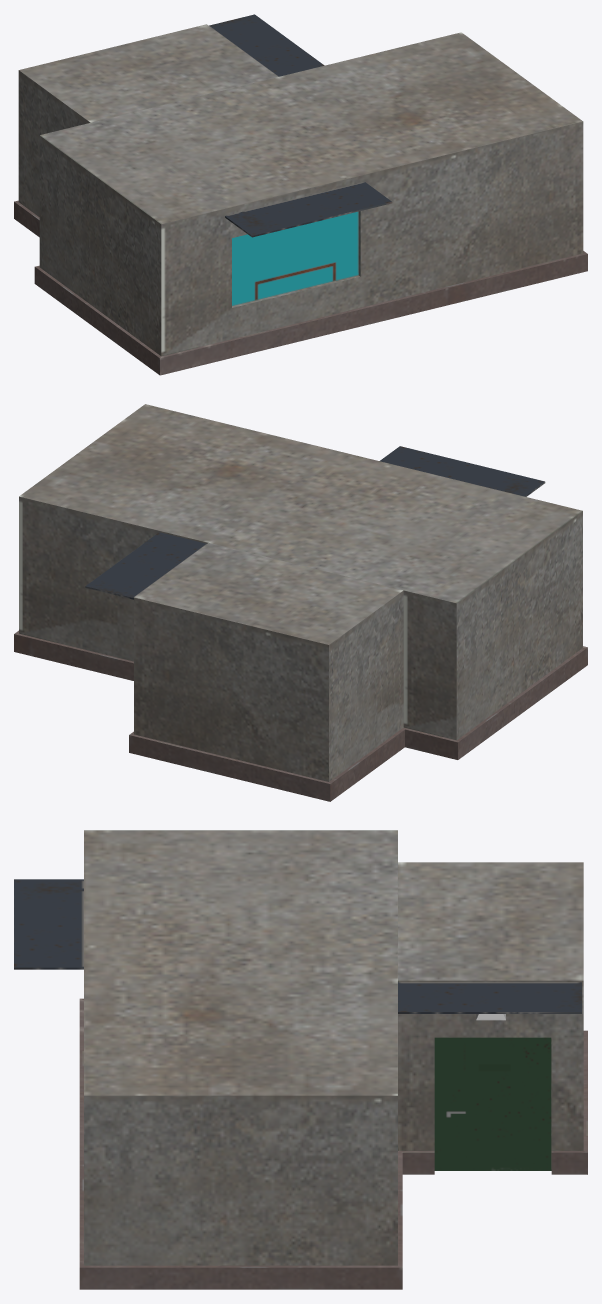
The model's file is kpp_2.glb.
3 renders of one model, top to bottom at view 1: azimuth 30°, elevation 25°; view 2: azimuth 150°, elevation 25°; view 3: azimuth 270°, elevation 25°, orthographic. The views are drawn at different scales.
Parts seen in each view (by area): view 1: Box001; view 2: Box001; view 3: Box001.
Part boxes in pixels (left/top/right/bottom): Box001: left=14, top=14, right=587, bottom=375; Box001: left=14, top=404, right=587, bottom=801; Box001: left=14, top=830, right=587, bottom=1289.
Bounding box in the file's own units: 2.06 × 0.6866 × 1.86.
Materials: 1 (1 with a texture image).
